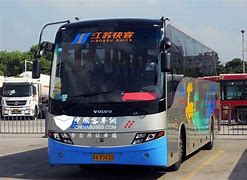bigcar: (38, 7, 223, 169)
